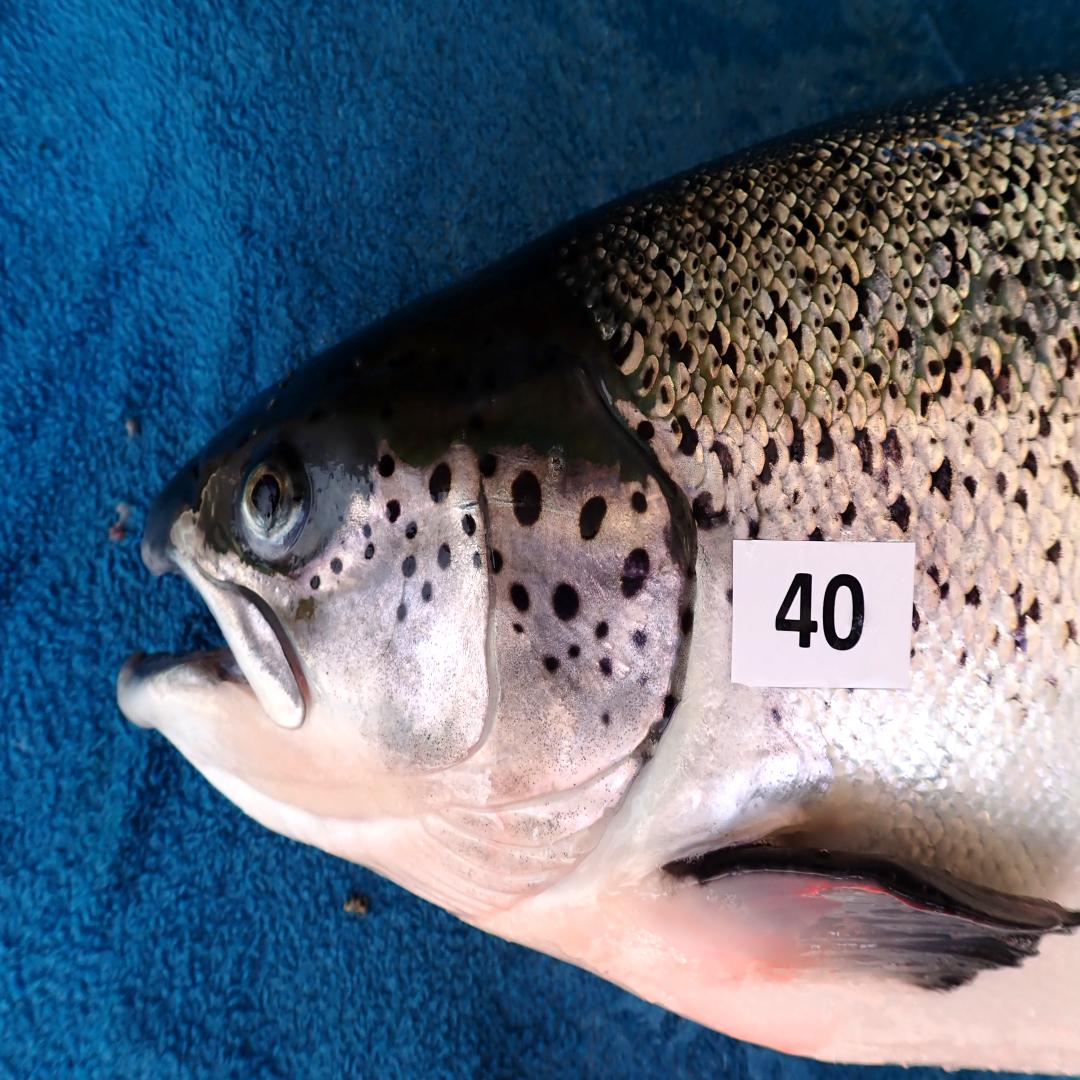roi: (304, 442, 688, 923)
